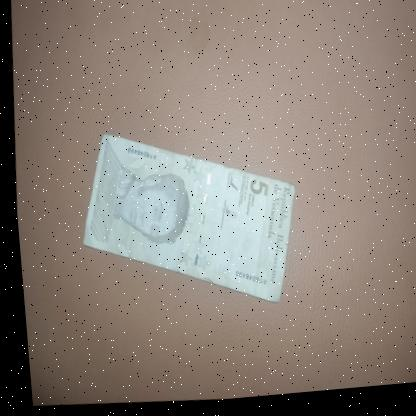five-front-vef: (67, 121, 302, 321)
